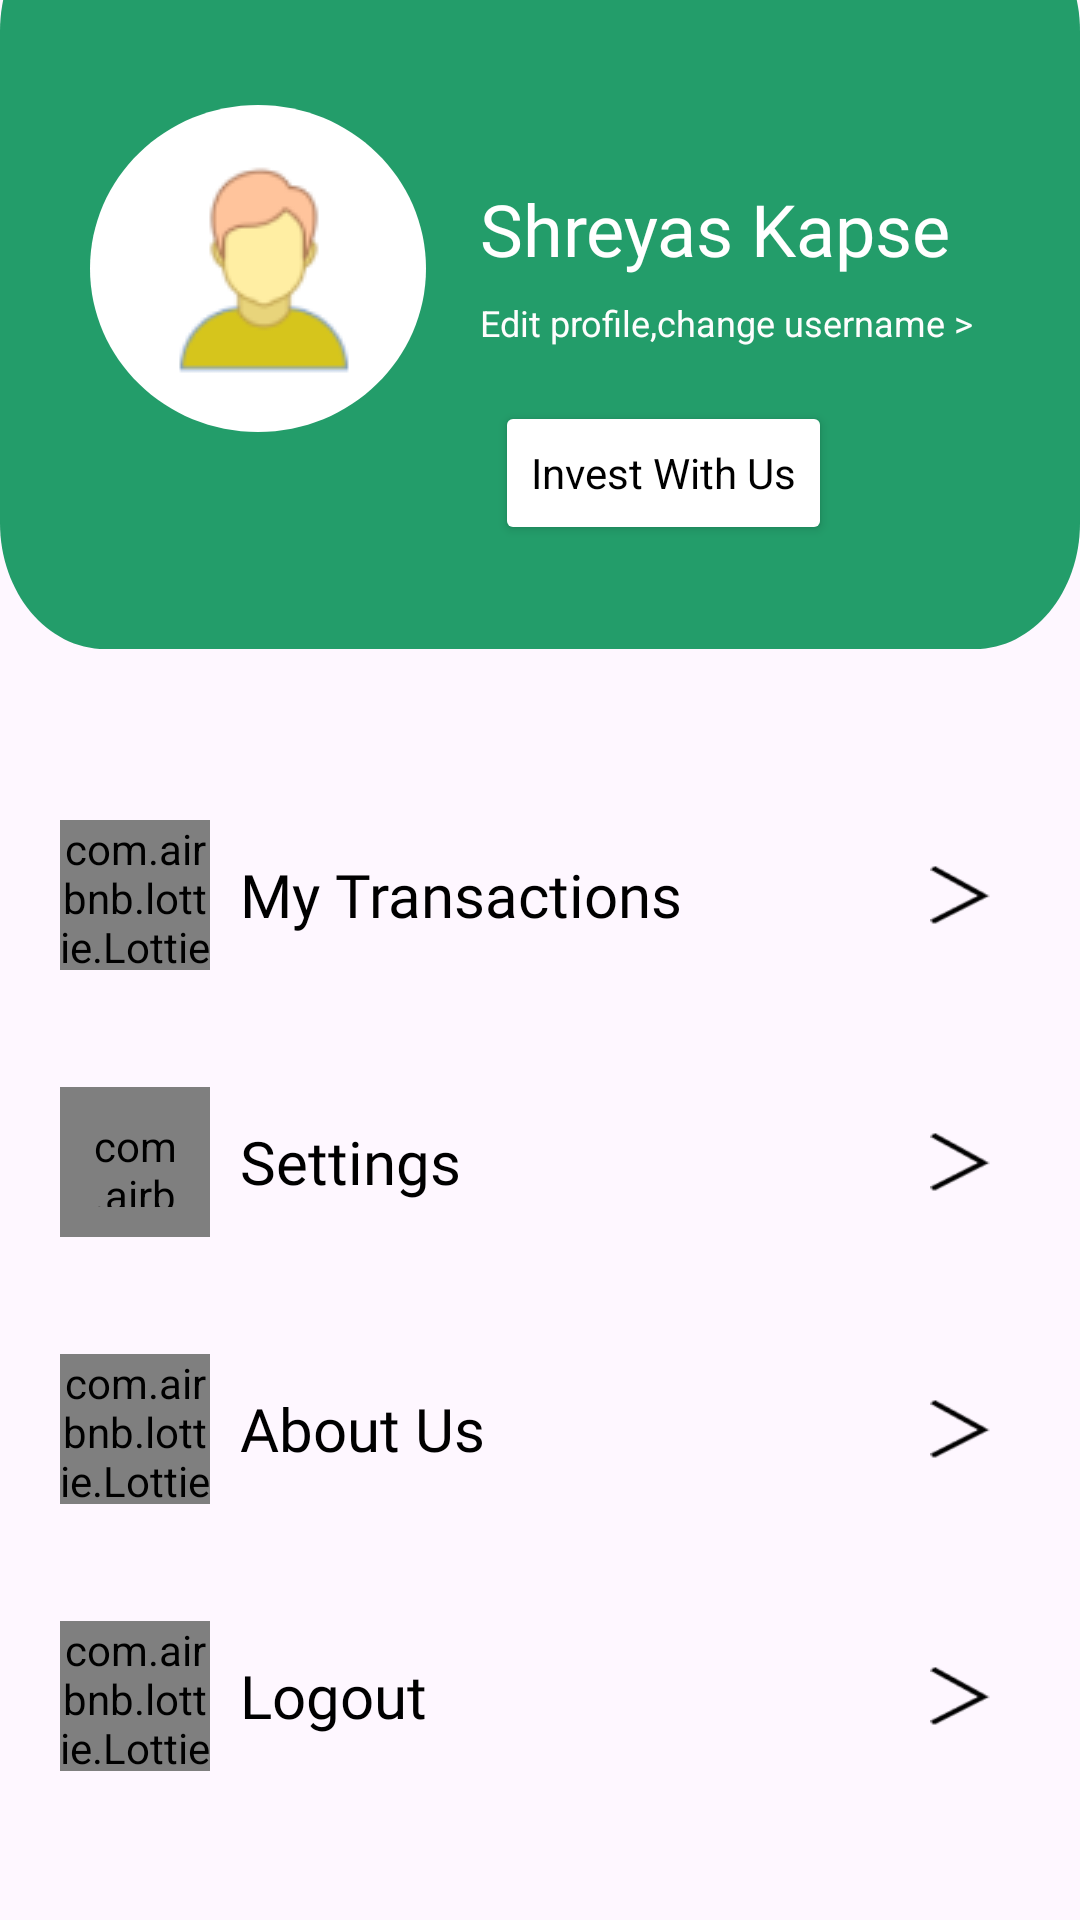

Named icons in this screenshot (1080*1920) and their centers, point (x, y):
arrow: point (960, 895), point (960, 1162), point (960, 1429), point (960, 1696)
